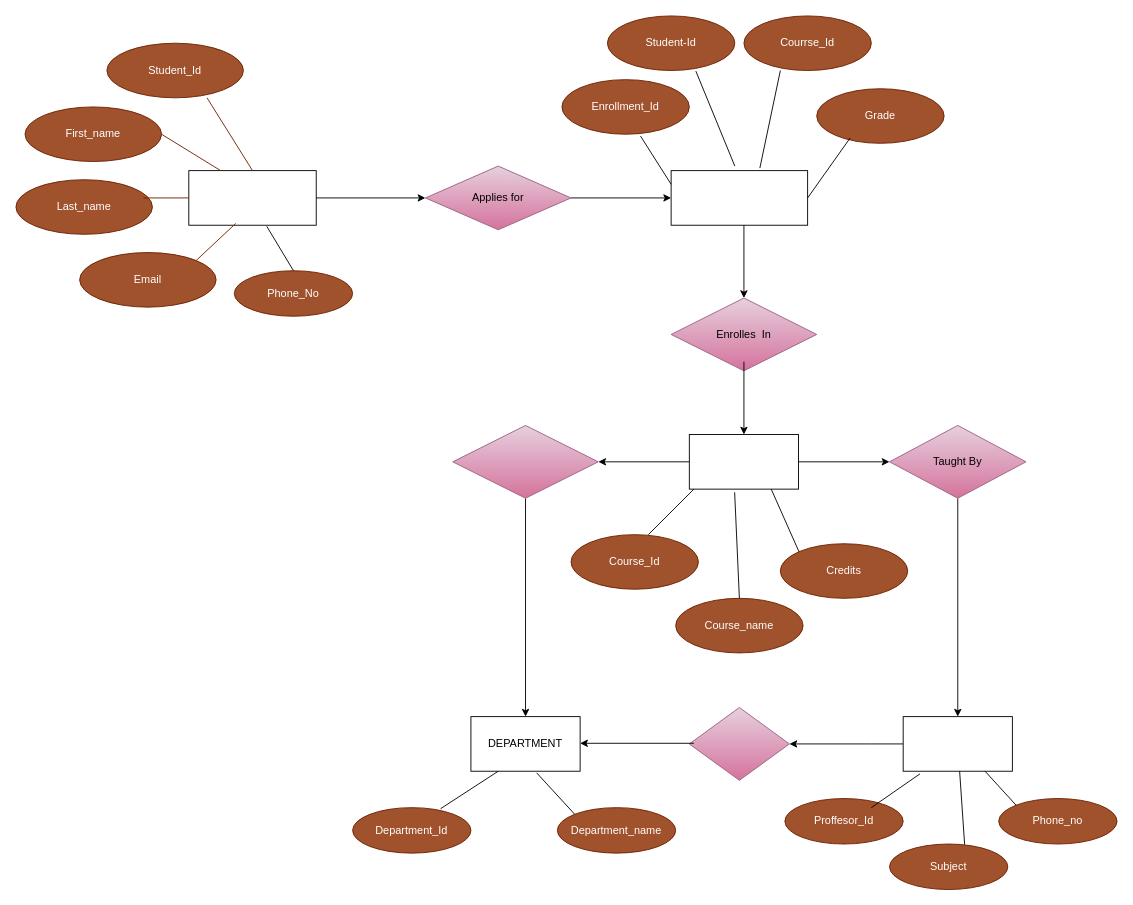
This 1133x905 diagram has some shape labels left out. Here are the shapes that lost their labels. From the top down, the centre of each, then its label:
the point at 252,197: STUDENT
the point at 739,197: ENROLLMENT
the point at 525,461: Offered By
the point at 743,461: COURSE
the point at 738,743: Has
the point at 957,743: PROFESSOR
